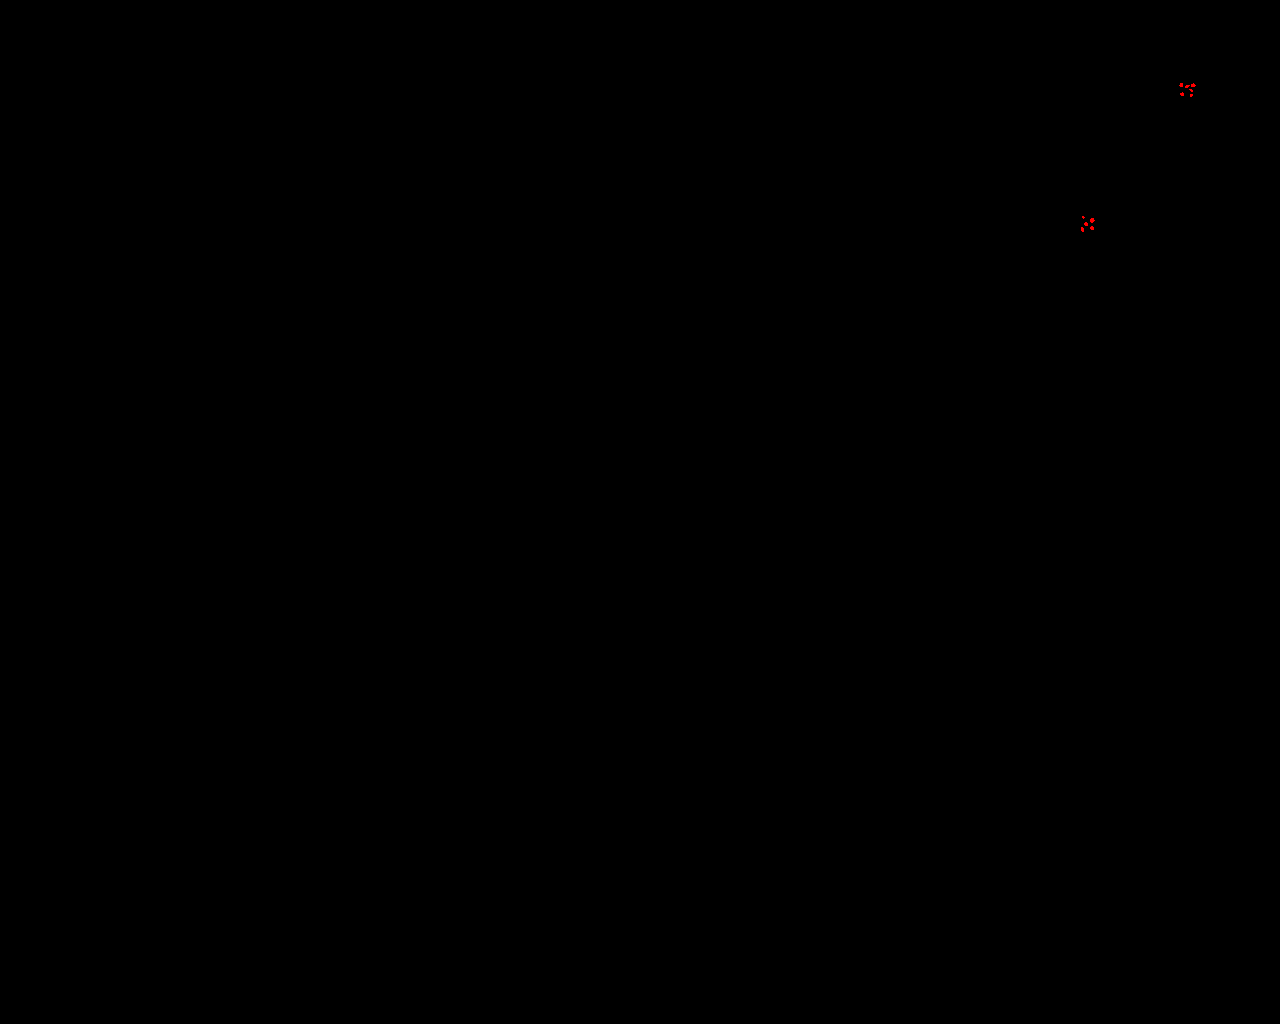Target: (1191, 83, 1196, 87), (1090, 218, 1095, 223), (1179, 83, 1183, 87), (1180, 92, 1184, 96), (1084, 222, 1088, 226), (1090, 226, 1094, 230), (1185, 85, 1190, 88), (1189, 89, 1193, 92), (1081, 227, 1084, 232), (1190, 94, 1193, 97), (1083, 216, 1085, 219)
